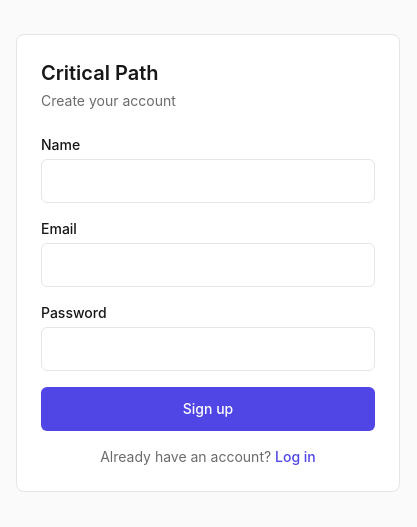
Scenario: Signup › names the wait when the attempts are throttled
Type "Ada" into the field labelled "Name" at (208, 181), box x1=41 y1=159 x2=375 y2=203
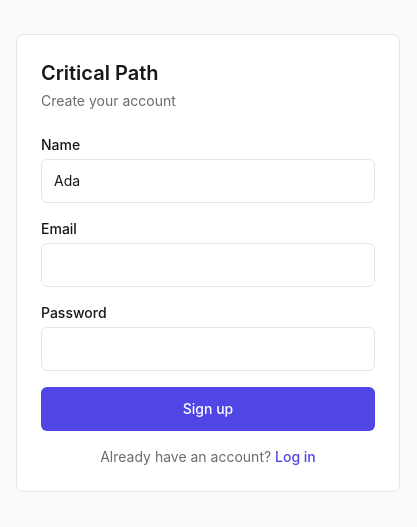
Type "ada@example.com" into the field labelled "Email" at (208, 265), box x1=41 y1=243 x2=375 y2=287
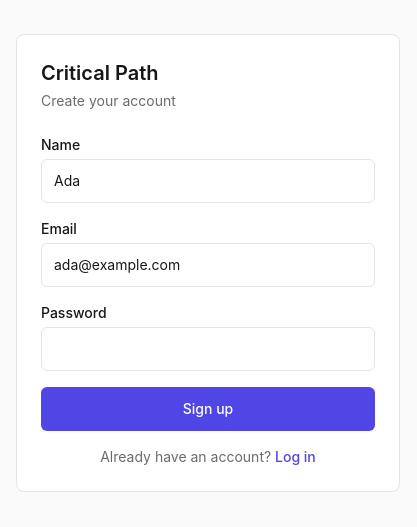
Type "password123" into the password field labelled "Password" at (208, 349), box x1=41 y1=327 x2=375 y2=371
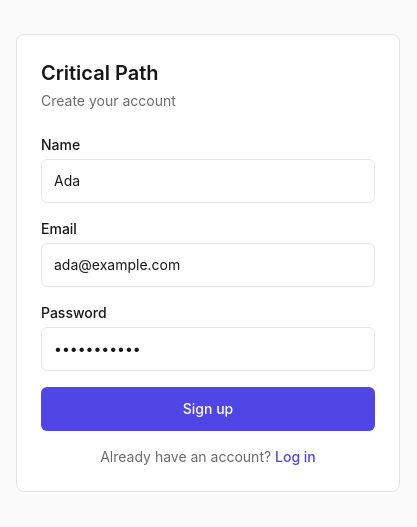
Click the button "Sign up" at (208, 409), box x1=41 y1=387 x2=375 y2=431
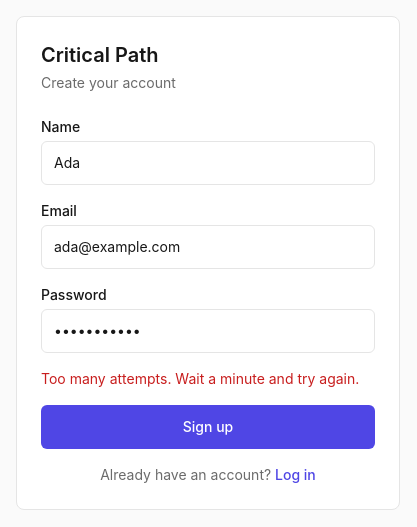
Expected: the message reads "Too many attempts. Wait a minute and try again.", x1=41 y1=370 x2=359 y2=387
